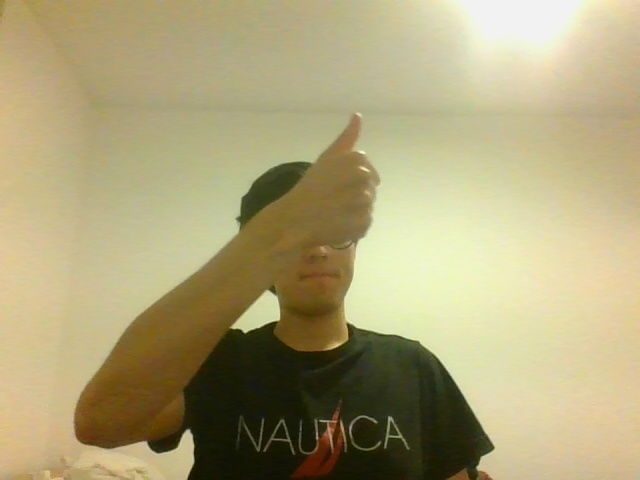thumbsup: (297, 111, 383, 255)
